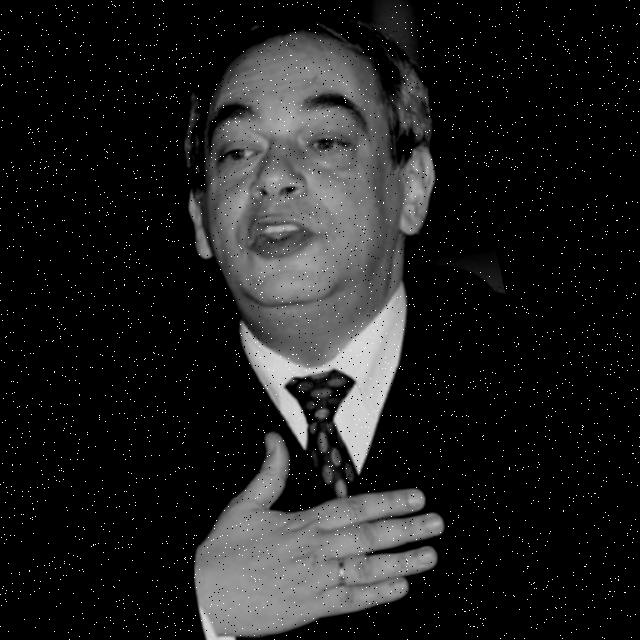face: (138, 9, 464, 345)
